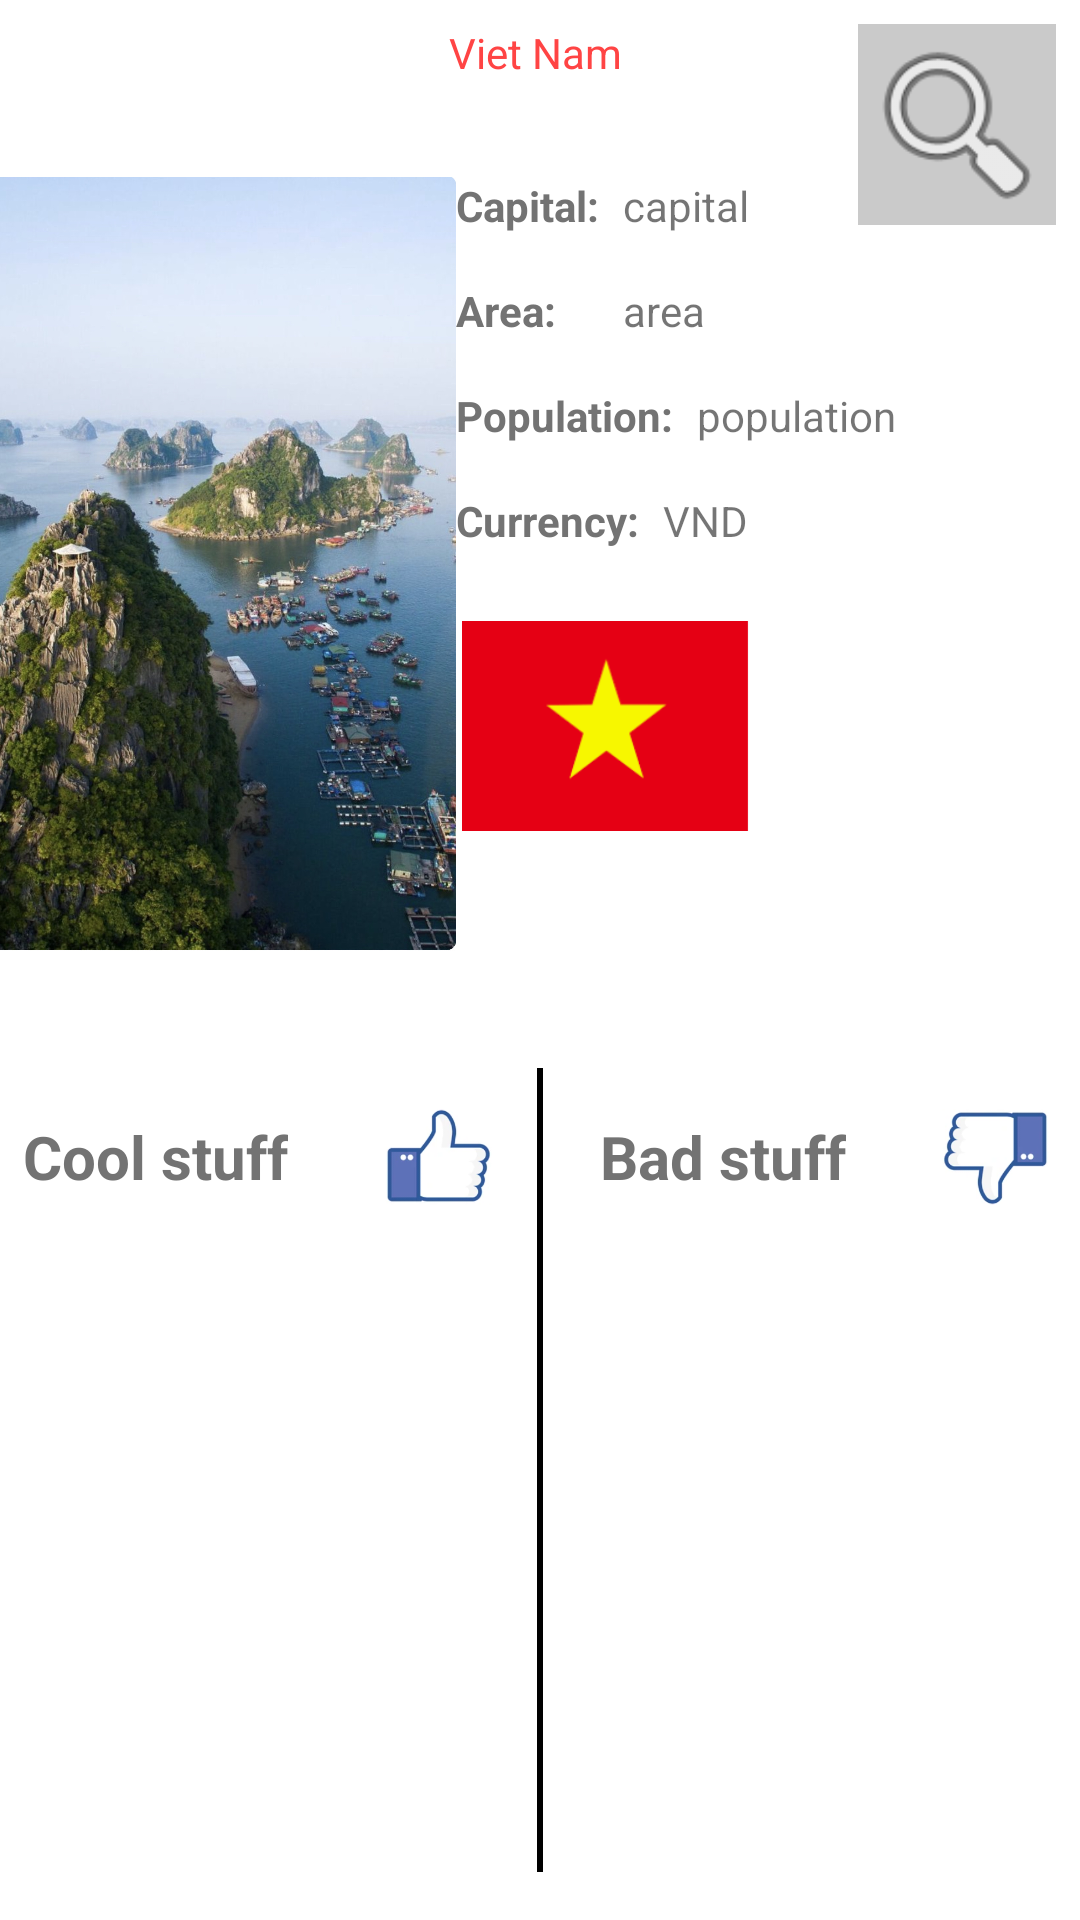

Icon bounding boxes for this 1080px x 1920px phone screenshot, format (x1, y1, x2, y2):
flag: (462, 621, 748, 831)
search: (858, 24, 1056, 225)
